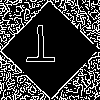T: (25, 25, 56, 71)
